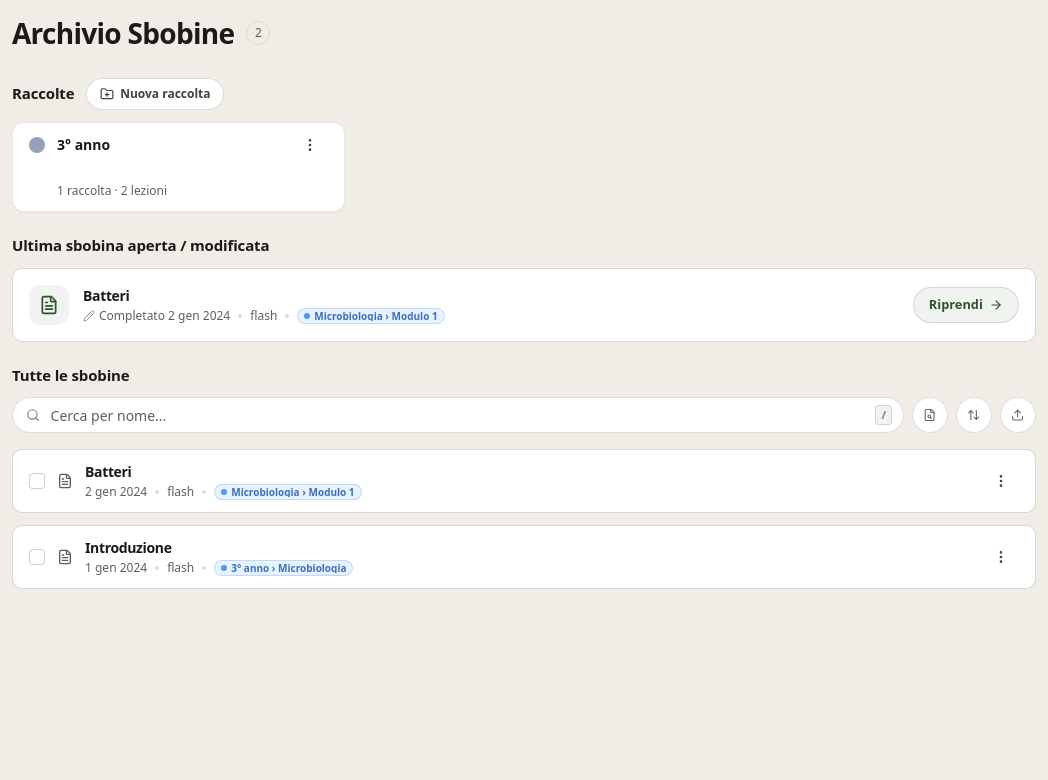
Test case: ArchivePage › shows only the current collection level and searches lessons in descendants
The width and height of the screenshot is (1048, 780).
Click the text "3° anno" at [84, 144], box [57,135,110,154]
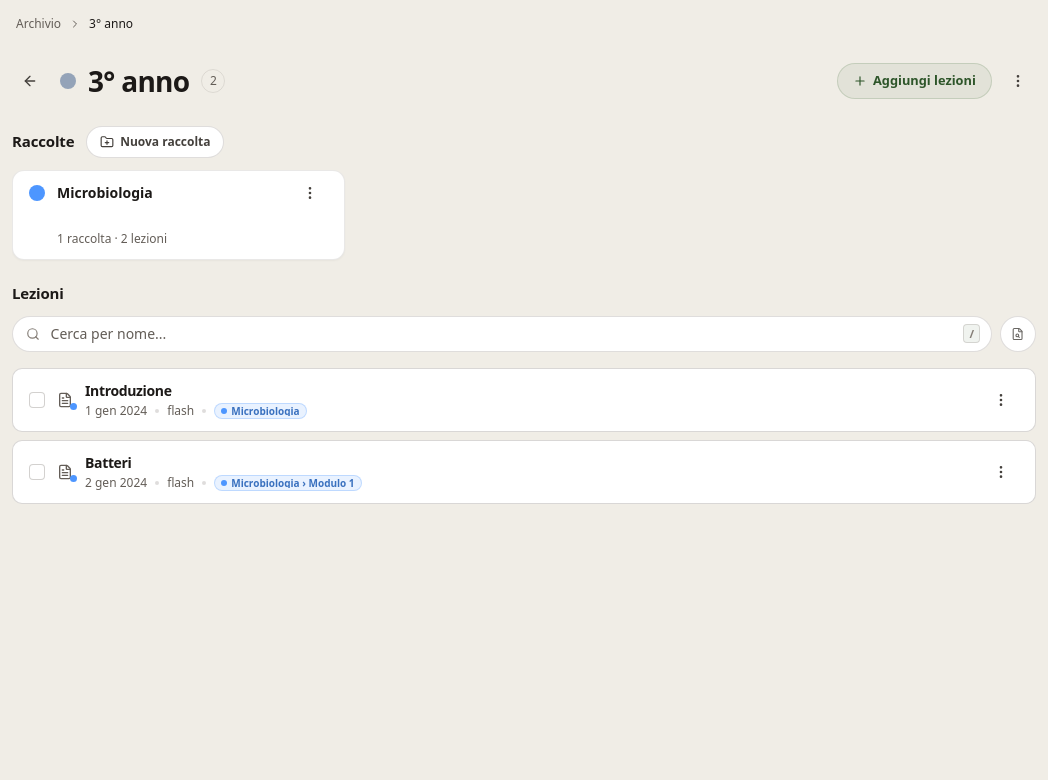
Check: the text "Introduzione" is shown, box [85,380,172,400]
Check: the text "Batteri" is shown, box [85,452,132,472]
Type "Batteri" into the field with placeholder "Cerca per nome..." at [502, 334], box [12,316,992,352]
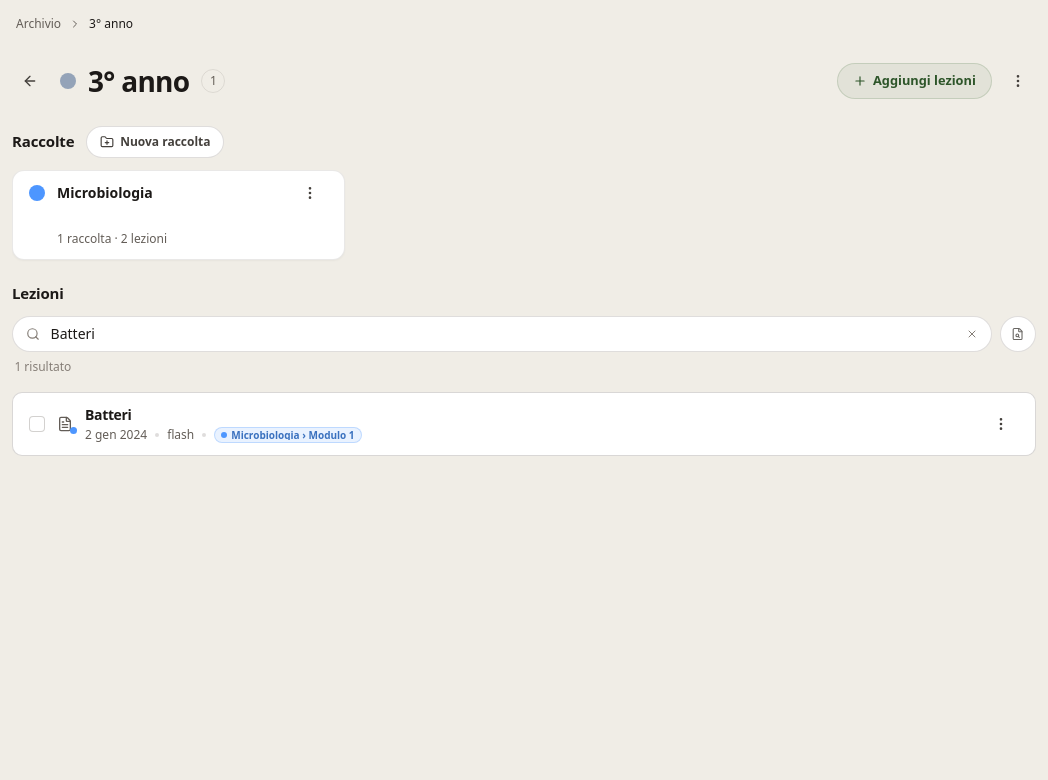
Check: the text "Batteri" is shown, box [85,404,132,424]
Check: the button "Introduzione" is gone
Click the text "Microbiologia" at [105, 192], box [57,183,153,202]
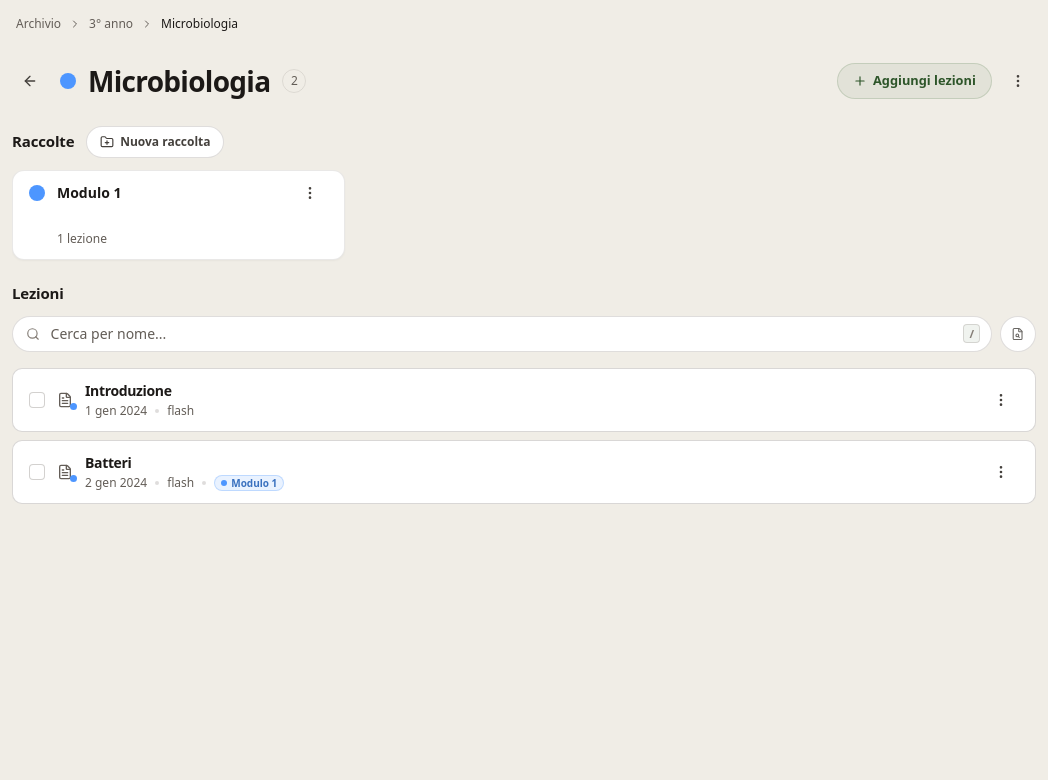
Check: the heading "Microbiologia" is shown, box [88,60,270,102]
Click the button named "Torna al livello superiore" at [30, 81], box [12,63,48,99]
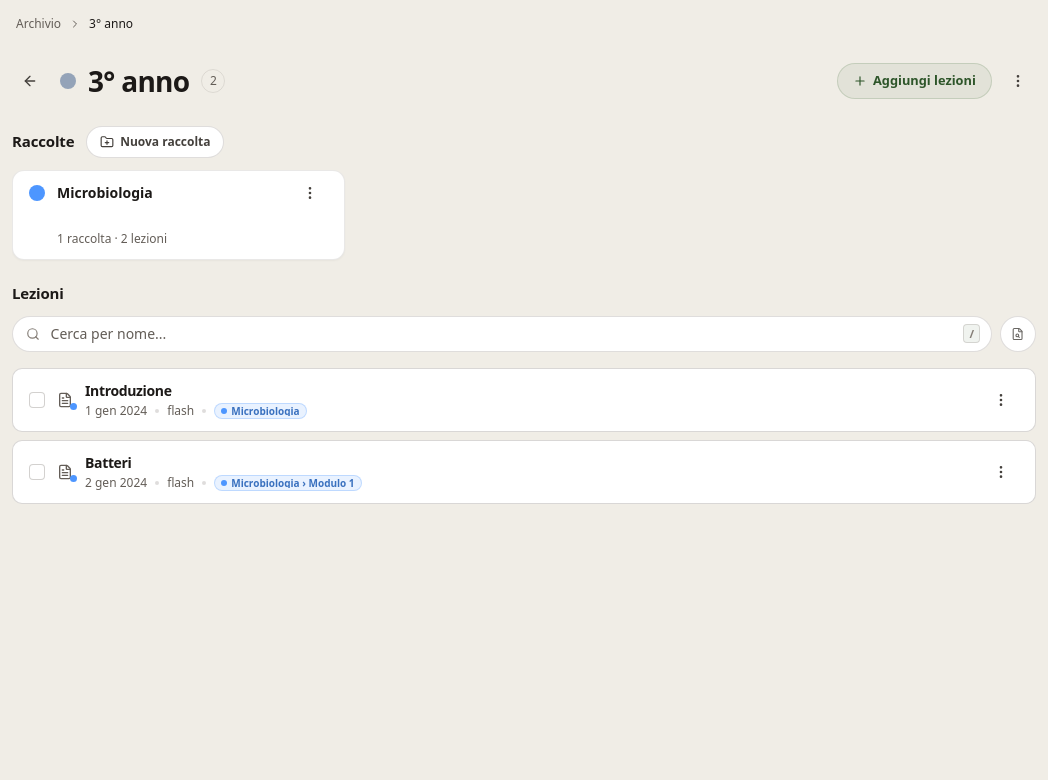
Check: the heading "3° anno" is shown, box [88,60,189,102]
Click the button "Archivio" at [39, 24], box [12,12,65,36]
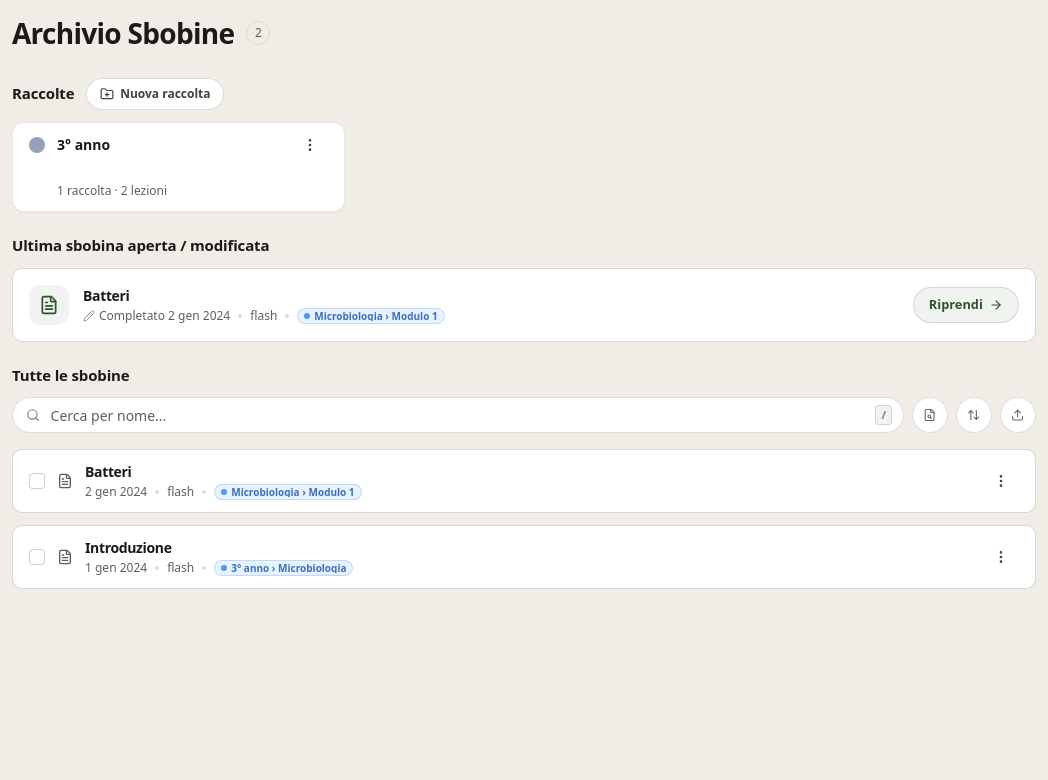
Check: the heading "Archivio Sbobine" is shown, box [12,12,234,54]
